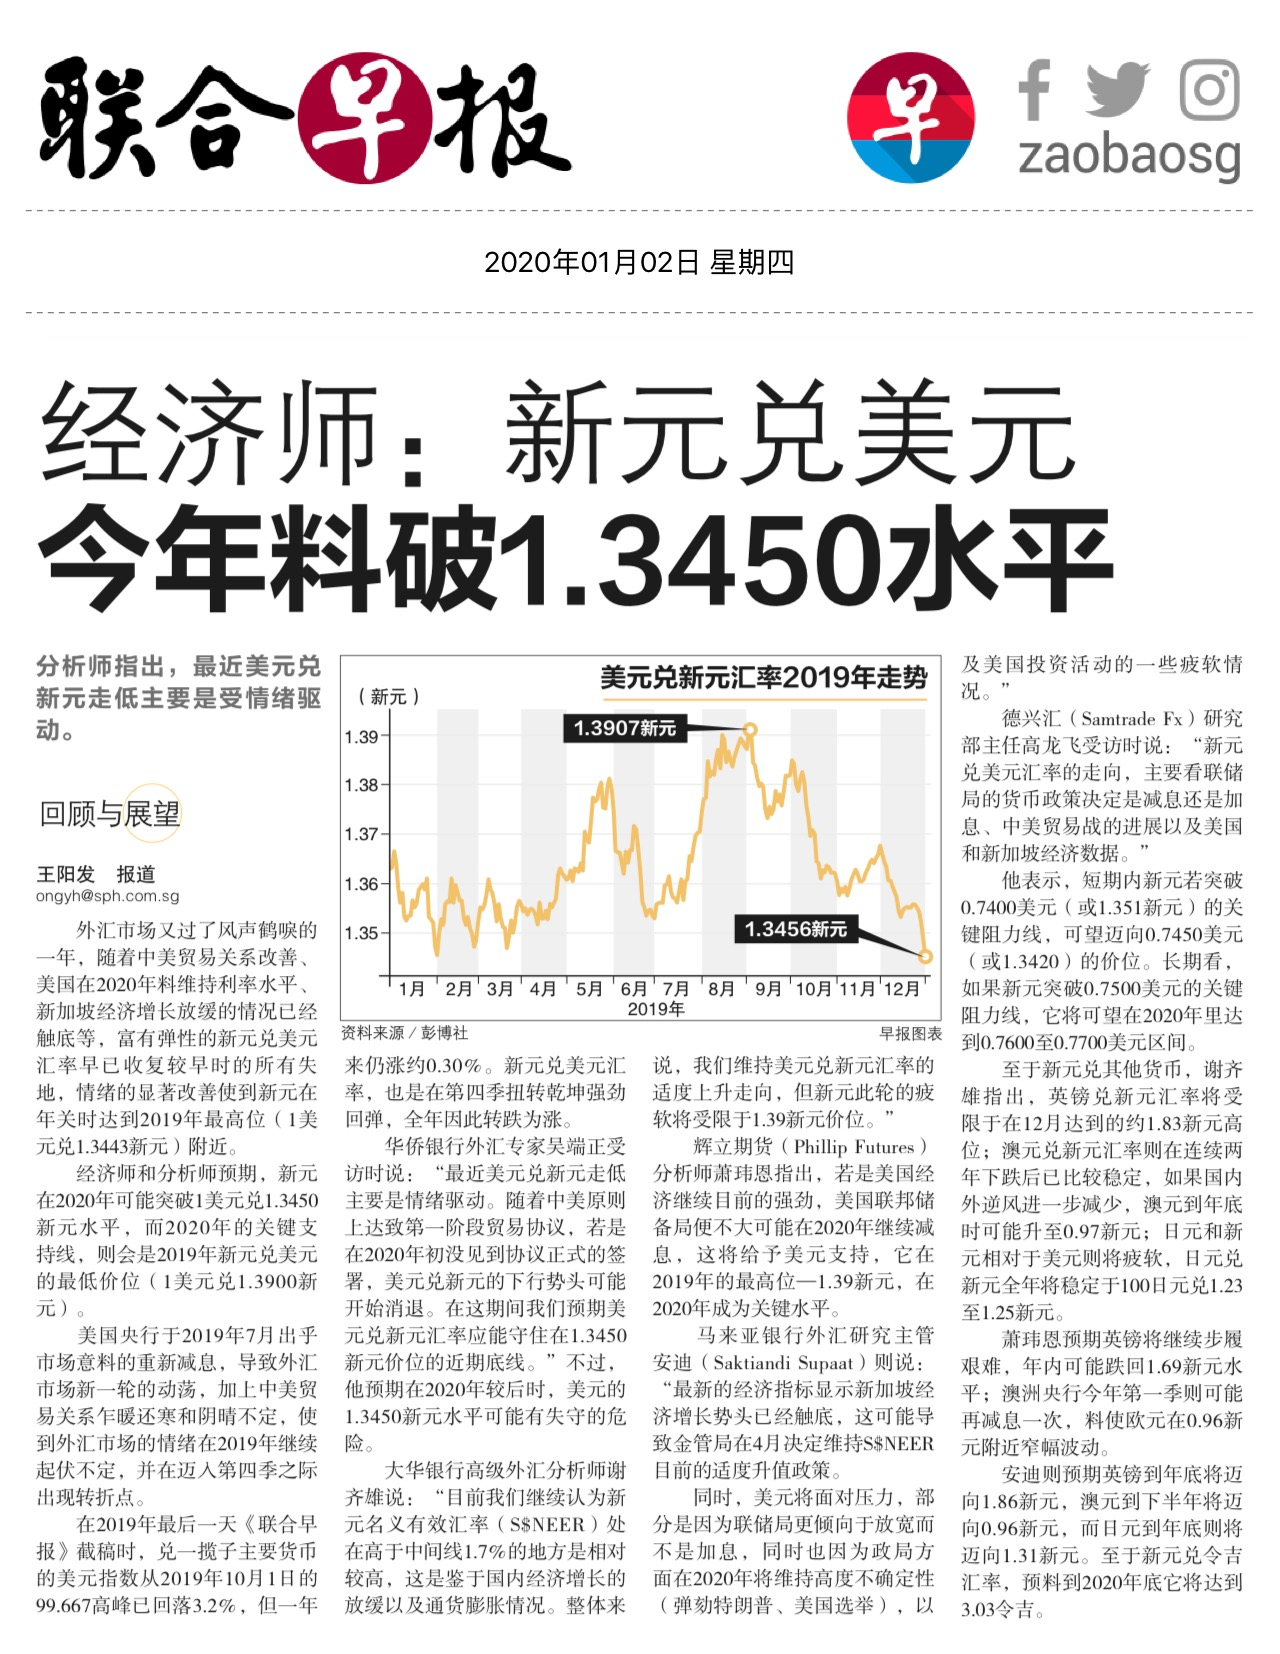heading: (32, 371, 1128, 626)
